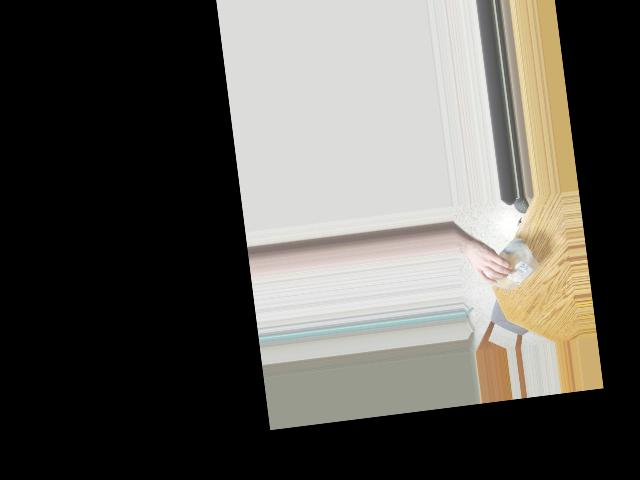cheese: (475, 236, 544, 295)
